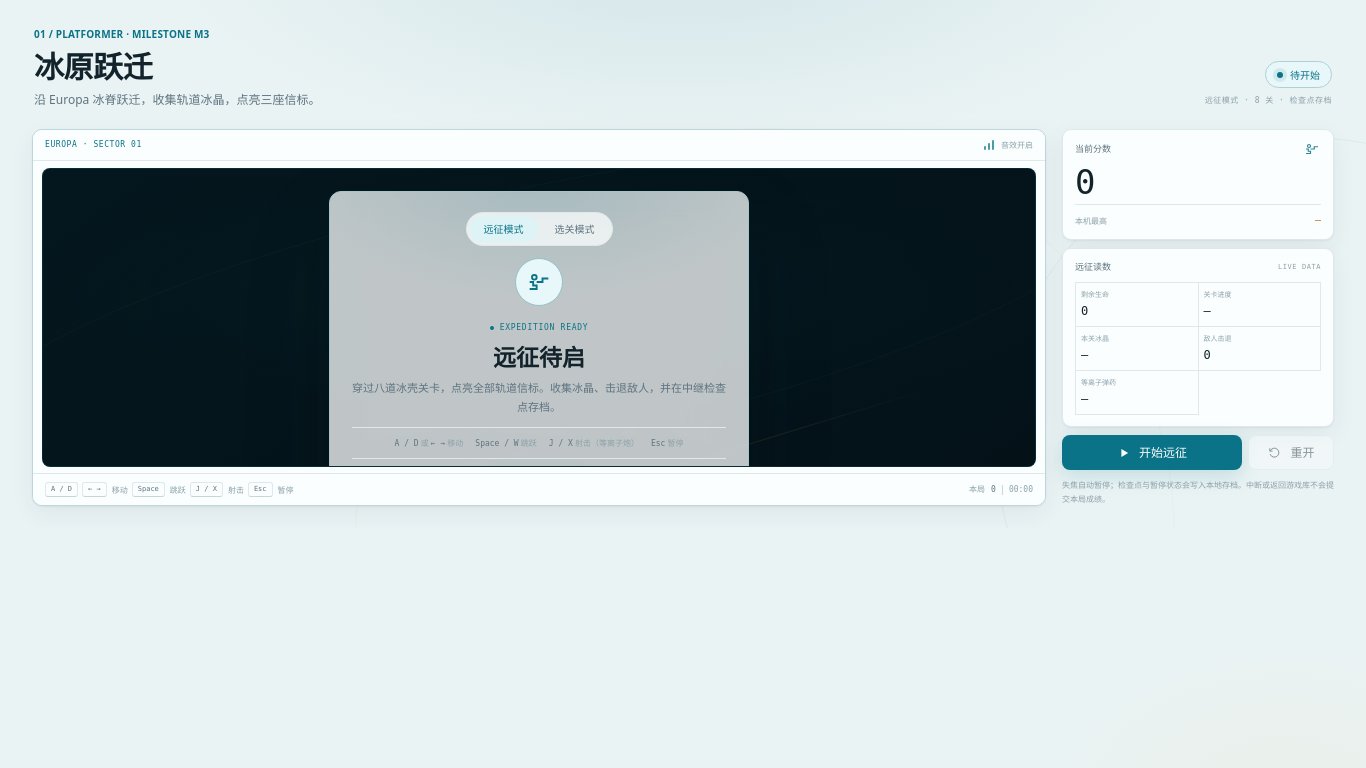
Scenario: PlatformerGame › switches to level select and shows one card per level
Expected: the tab "远征模式" is shown, x1=470 y1=216 x2=538 y2=242
Expected: the heading "远征待启" is shown, x1=493 y1=341 x2=585 y2=373
Step 1. Click the tab "选关模式" → (574, 229), box x1=540 y1=216 x2=608 y2=242
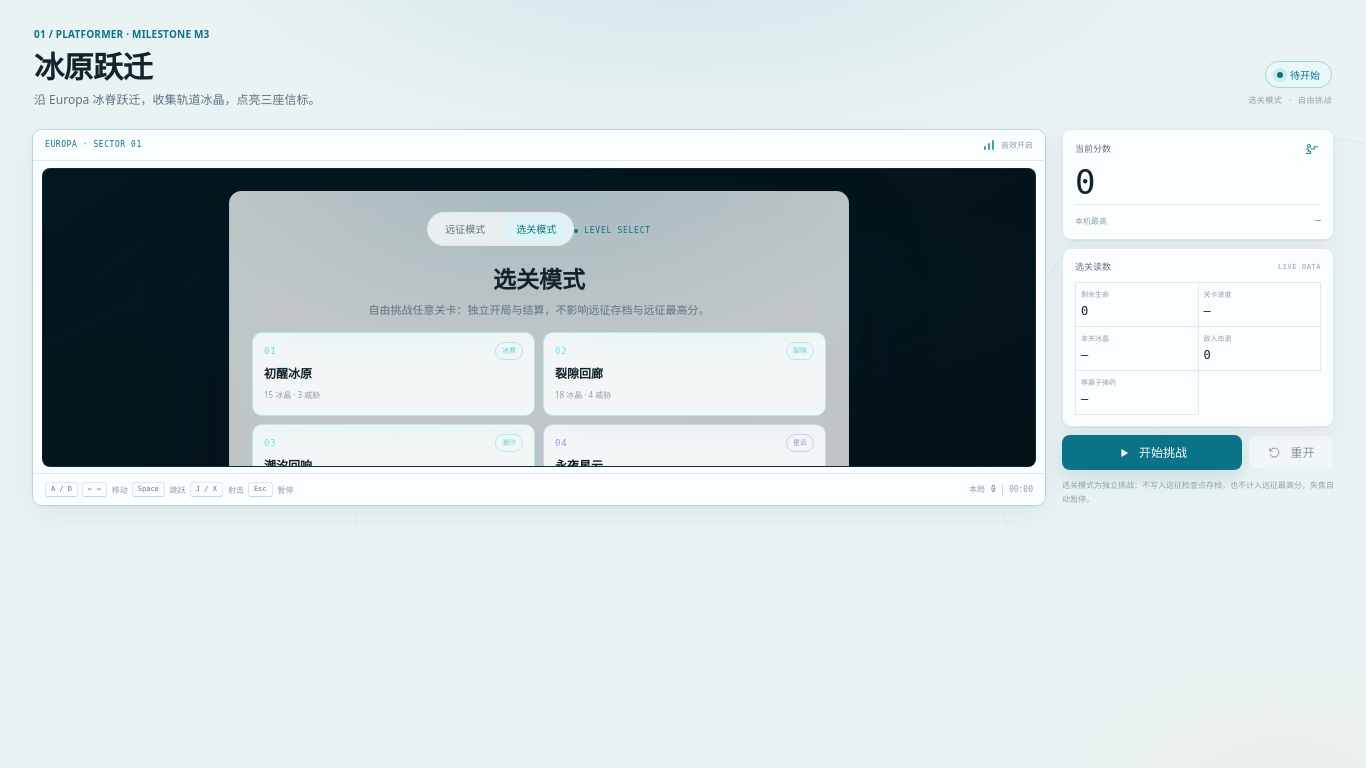
Expected: the heading "选关模式" is shown, x1=493 y1=263 x2=585 y2=295
Expected: the heading "远征待启" is gone
Expected: the number of buttons "01 冰原 初醒冰原 15 冰晶 · 3 威胁" is 8
